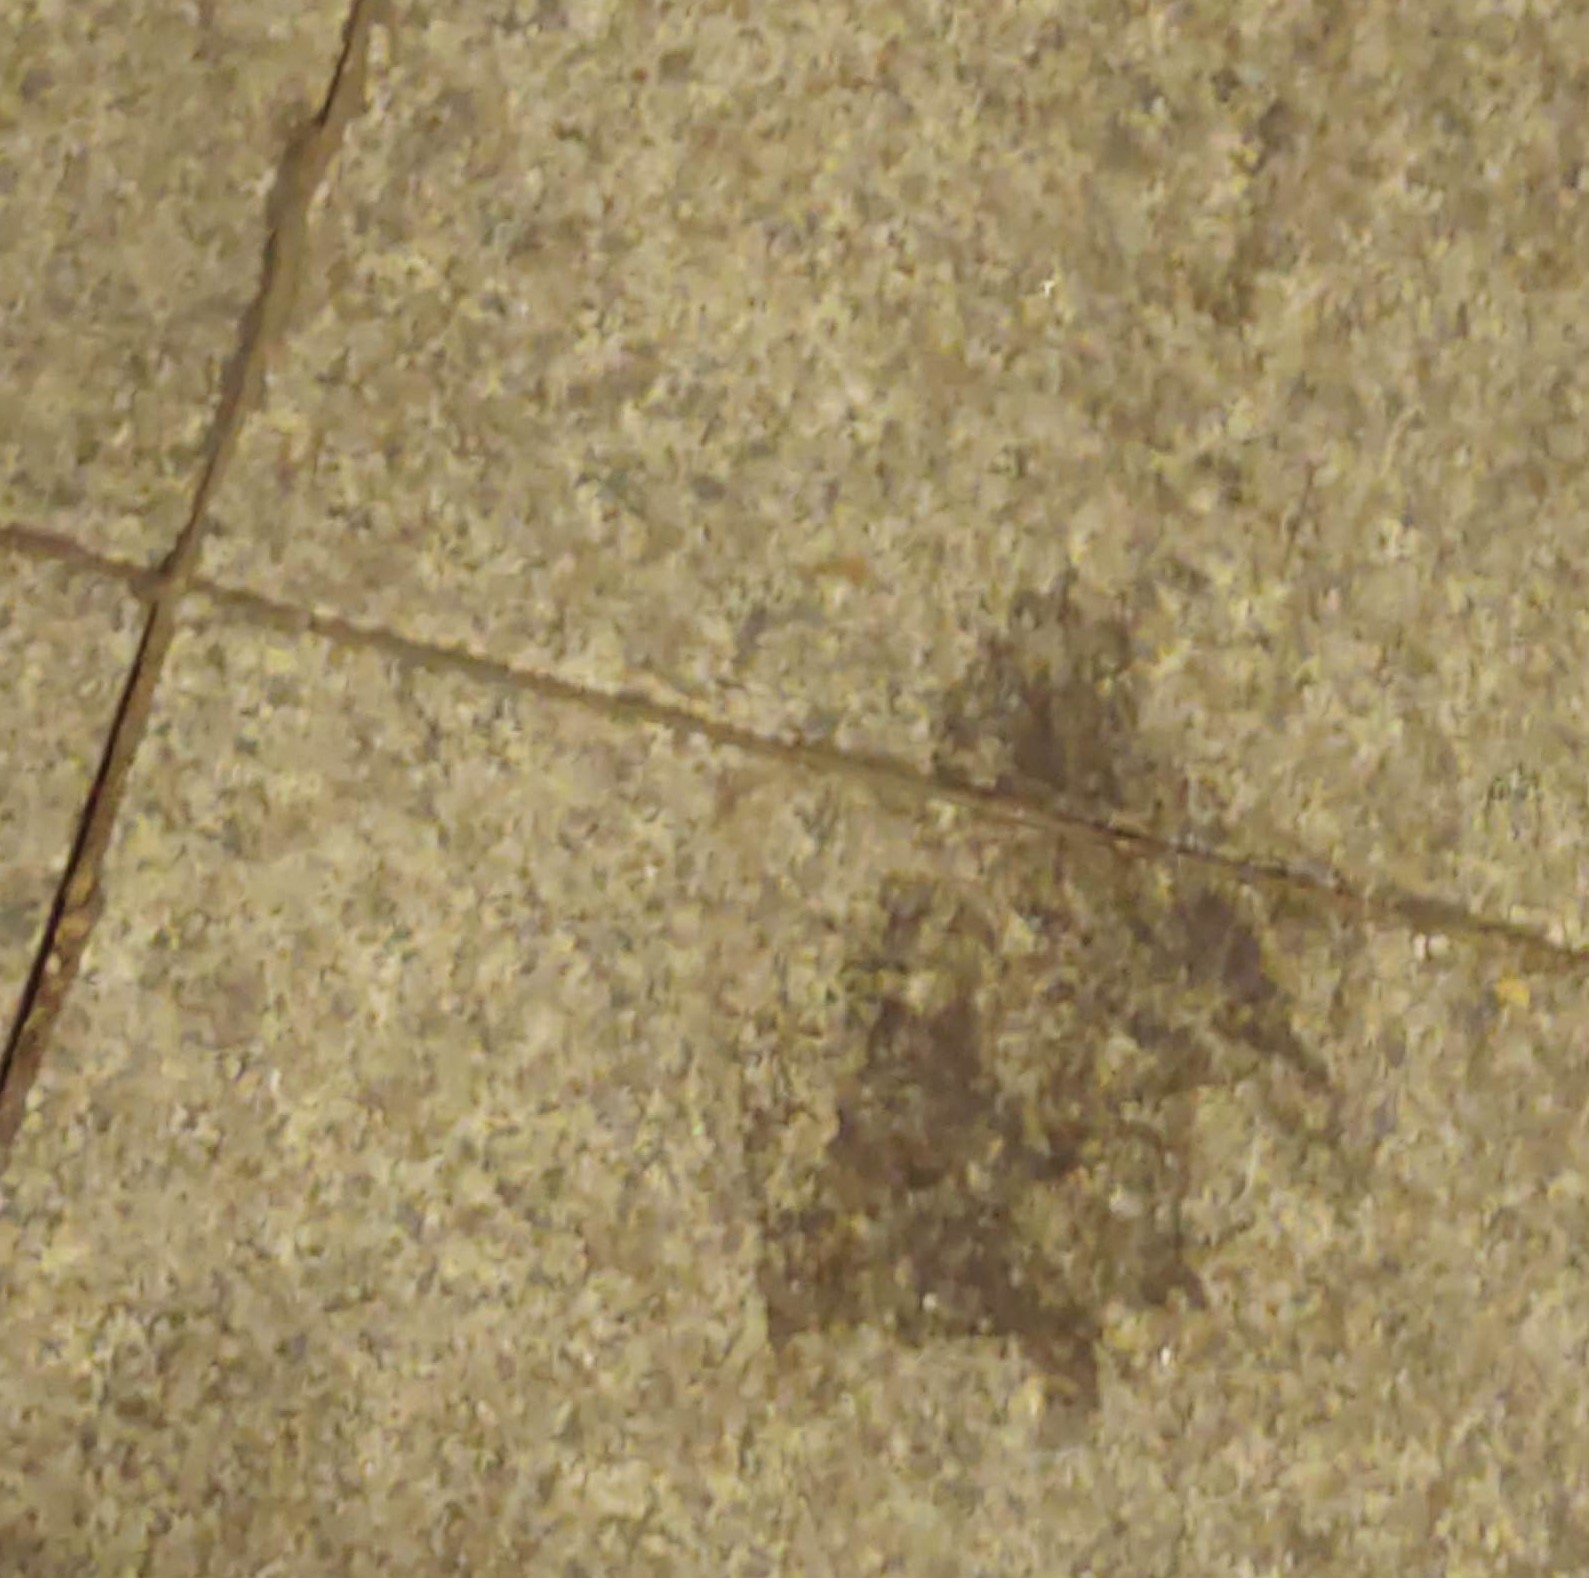grey spot: (758, 569, 1325, 1433)
